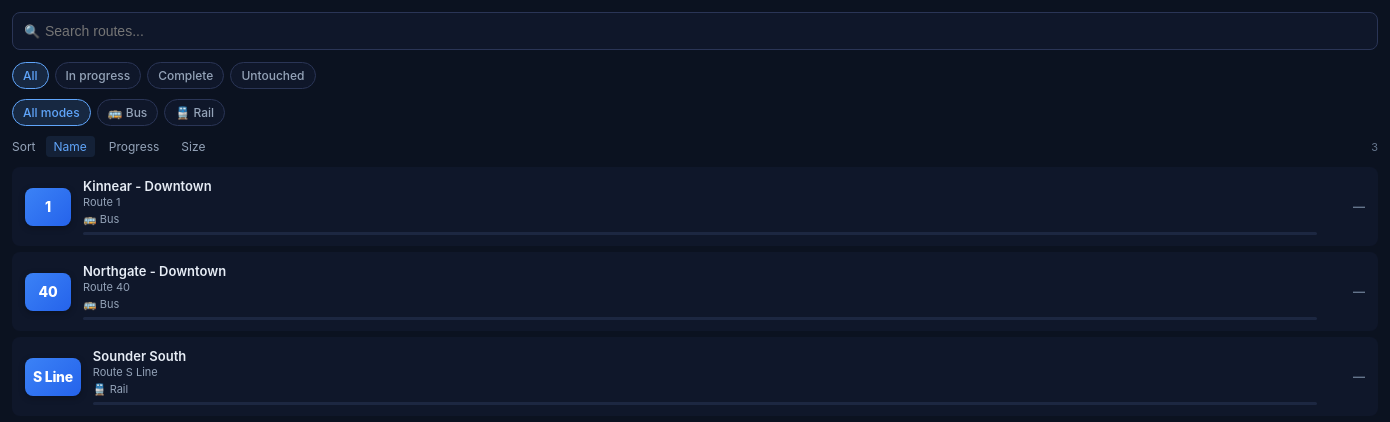
Scenario: RouteList › clears search when the clear button is clicked
The image size is (1390, 422).
Type "zzz-no-match" into the field with placeholder "Search routes...".
click(695, 31); type("zzz-no-match")  # box x1=12 y1=12 x2=1378 y2=50
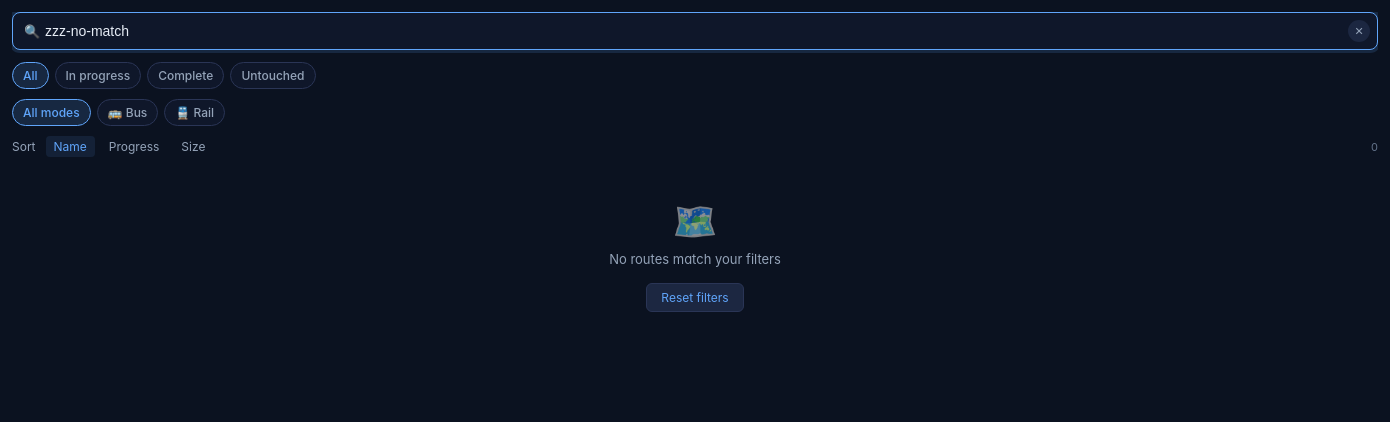
Expected: the button "Sounder South" is gone
Click the button named "clear search".
click(1359, 31)  # box x1=1348 y1=20 x2=1370 y2=42
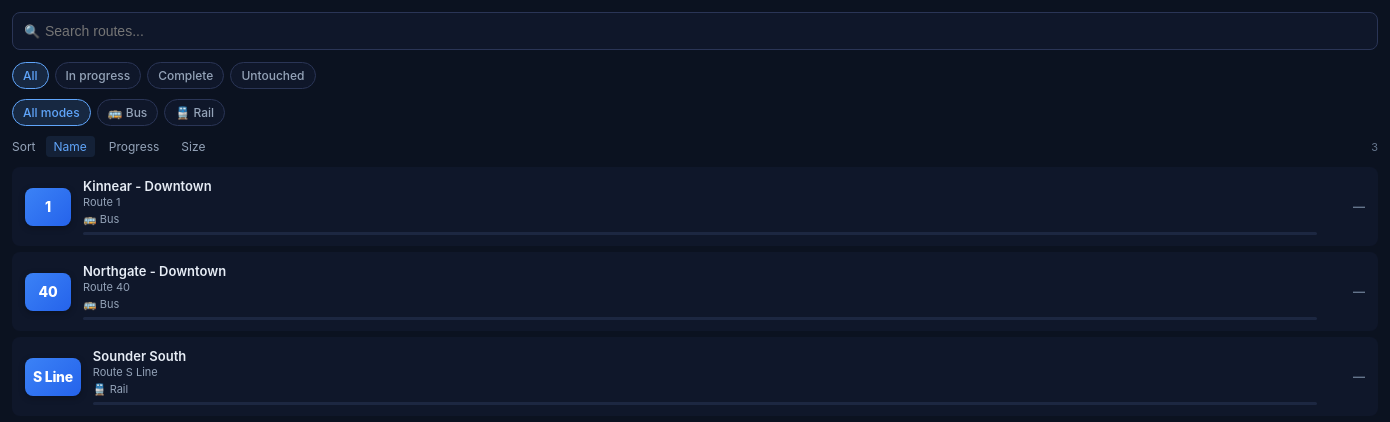
Expected: the text "Sounder South" is shown, x1=93 y1=348 x2=186 y2=364
